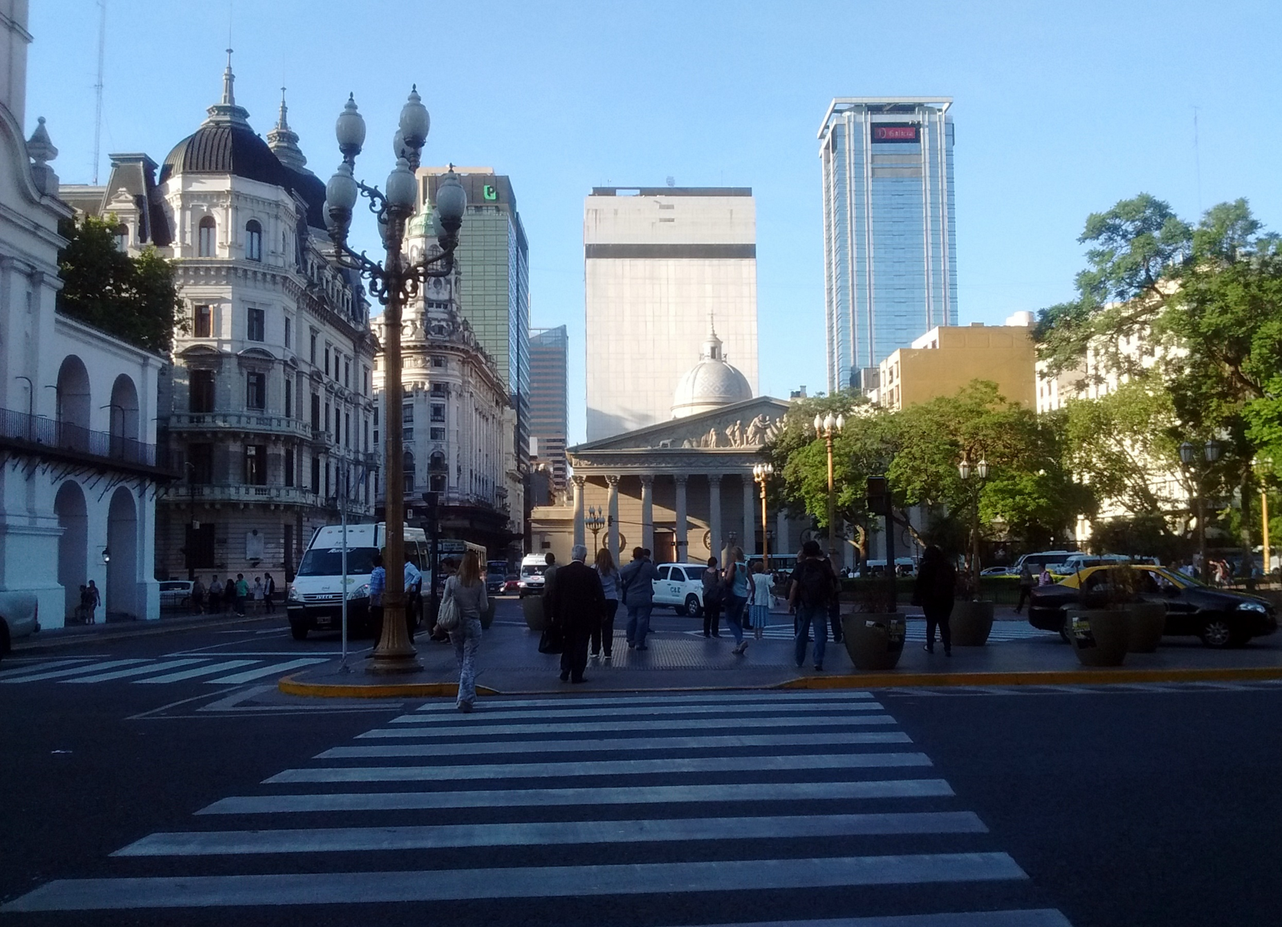fachada: (150, 93, 385, 614), (0, 0, 158, 628), (377, 131, 531, 550), (580, 176, 777, 433), (823, 99, 964, 398)
poste: (318, 96, 499, 686), (817, 409, 860, 550), (748, 457, 785, 593)
